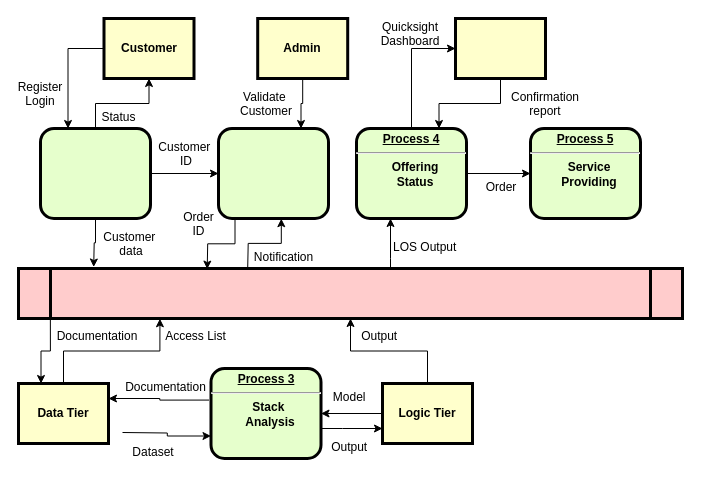
The diagram is 701 pixels wide and 481 high, and some of its shapes have lost their labels. Here are the shapes that lost their labels. From the top down, the centre of each, then its label:
At (500,48): "Presentation Tier".
At (95,173): "Process 1 User Identity Access Management".
At (273,173): "Process 2 Form Application".
At (350,293): "API Gateway".
